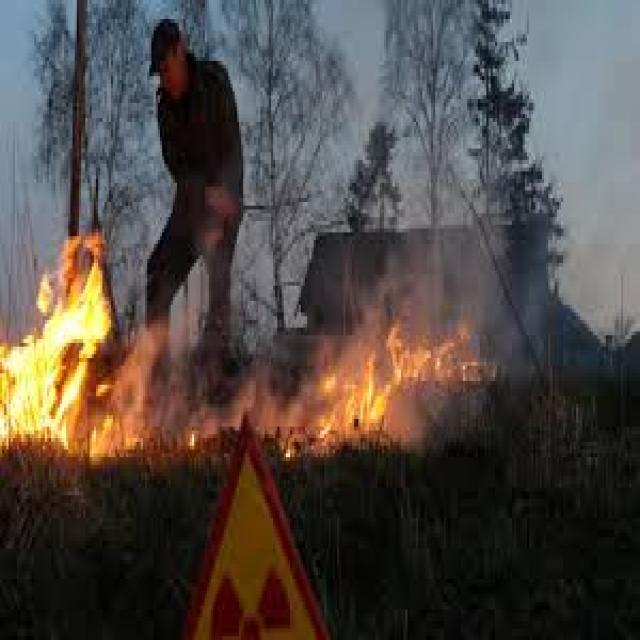Fire: (0, 232, 115, 450), (312, 318, 480, 442)
Smoke: (320, 2, 516, 314), (134, 318, 278, 438)
